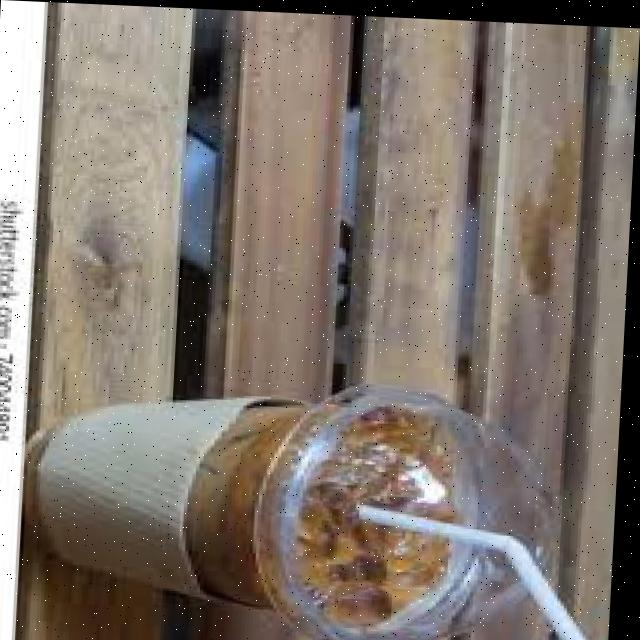cup: (43, 383, 488, 640)
